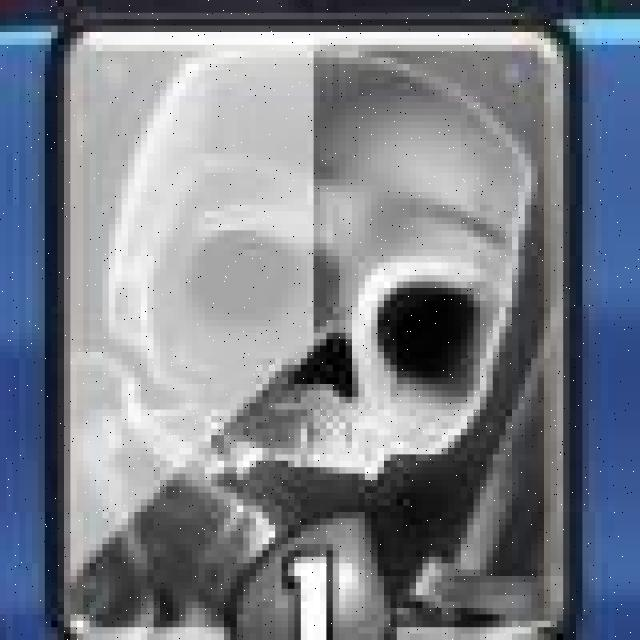Skeletons: (61, 26, 568, 640)
